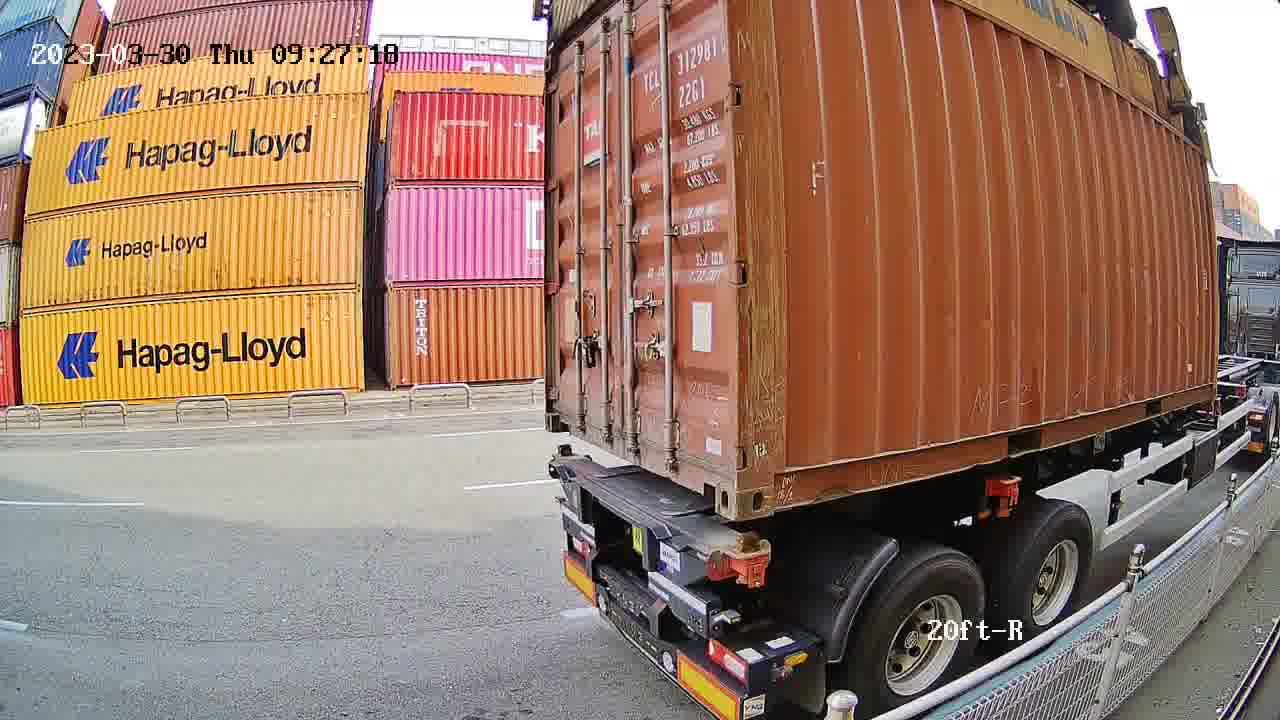Chassis: (551, 455, 768, 588)
Cone: (731, 532, 770, 588), (554, 444, 573, 456)
Hole_L: (734, 443, 805, 523), (543, 386, 577, 439)
Hole_R: (688, 445, 736, 523)
Tire: (857, 548, 986, 718), (1005, 506, 1094, 655)
